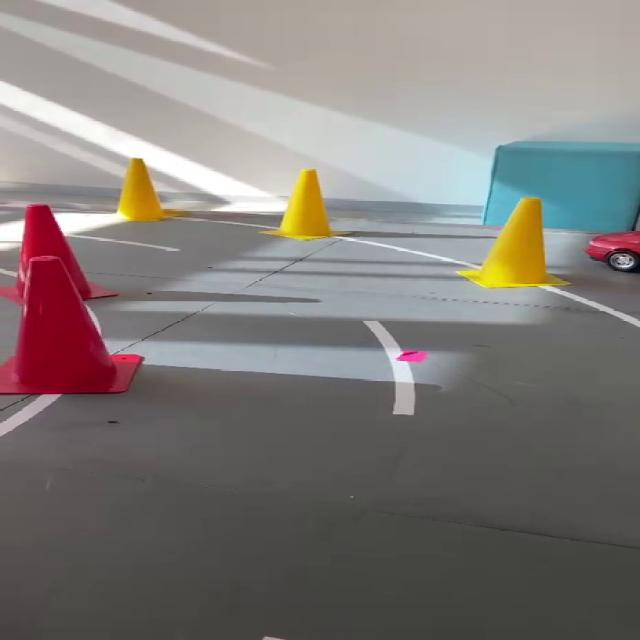Cone-red: (0, 257, 141, 395), (19, 205, 113, 298)
Cones-yellow: (458, 198, 568, 288), (265, 169, 332, 239), (116, 158, 168, 221)
